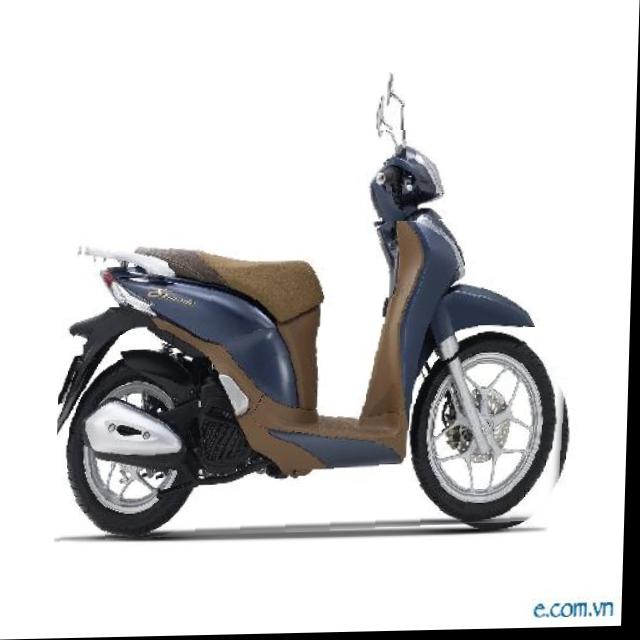All: (57, 73, 587, 543)
Head: (347, 131, 454, 224)
Tail: (81, 228, 170, 308)
